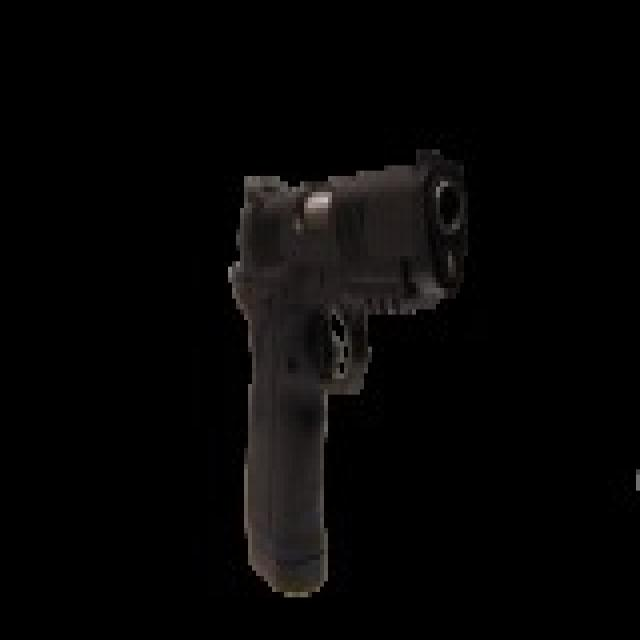Gun: (207, 98, 489, 622)
